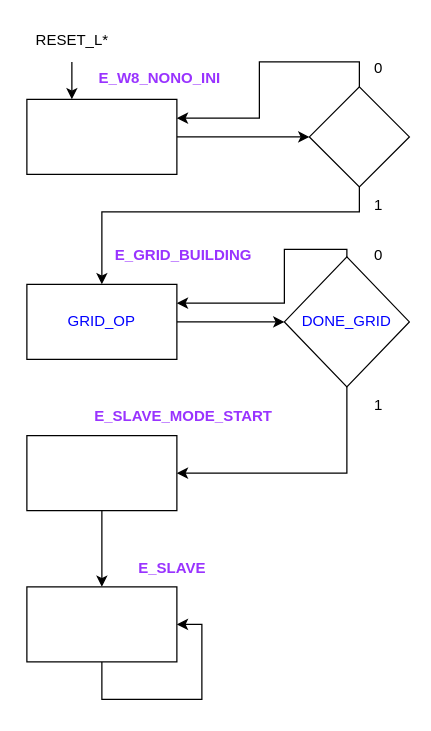
Some shapes in this 431 by 731 pixel diagram are drawn without their labels. The box of each missing label's shape, as (x1, y1, x2, y2) in pixels:
INI_NONO: (308, 86, 409, 187)
PR_MUX: (26, 434, 177, 511)
